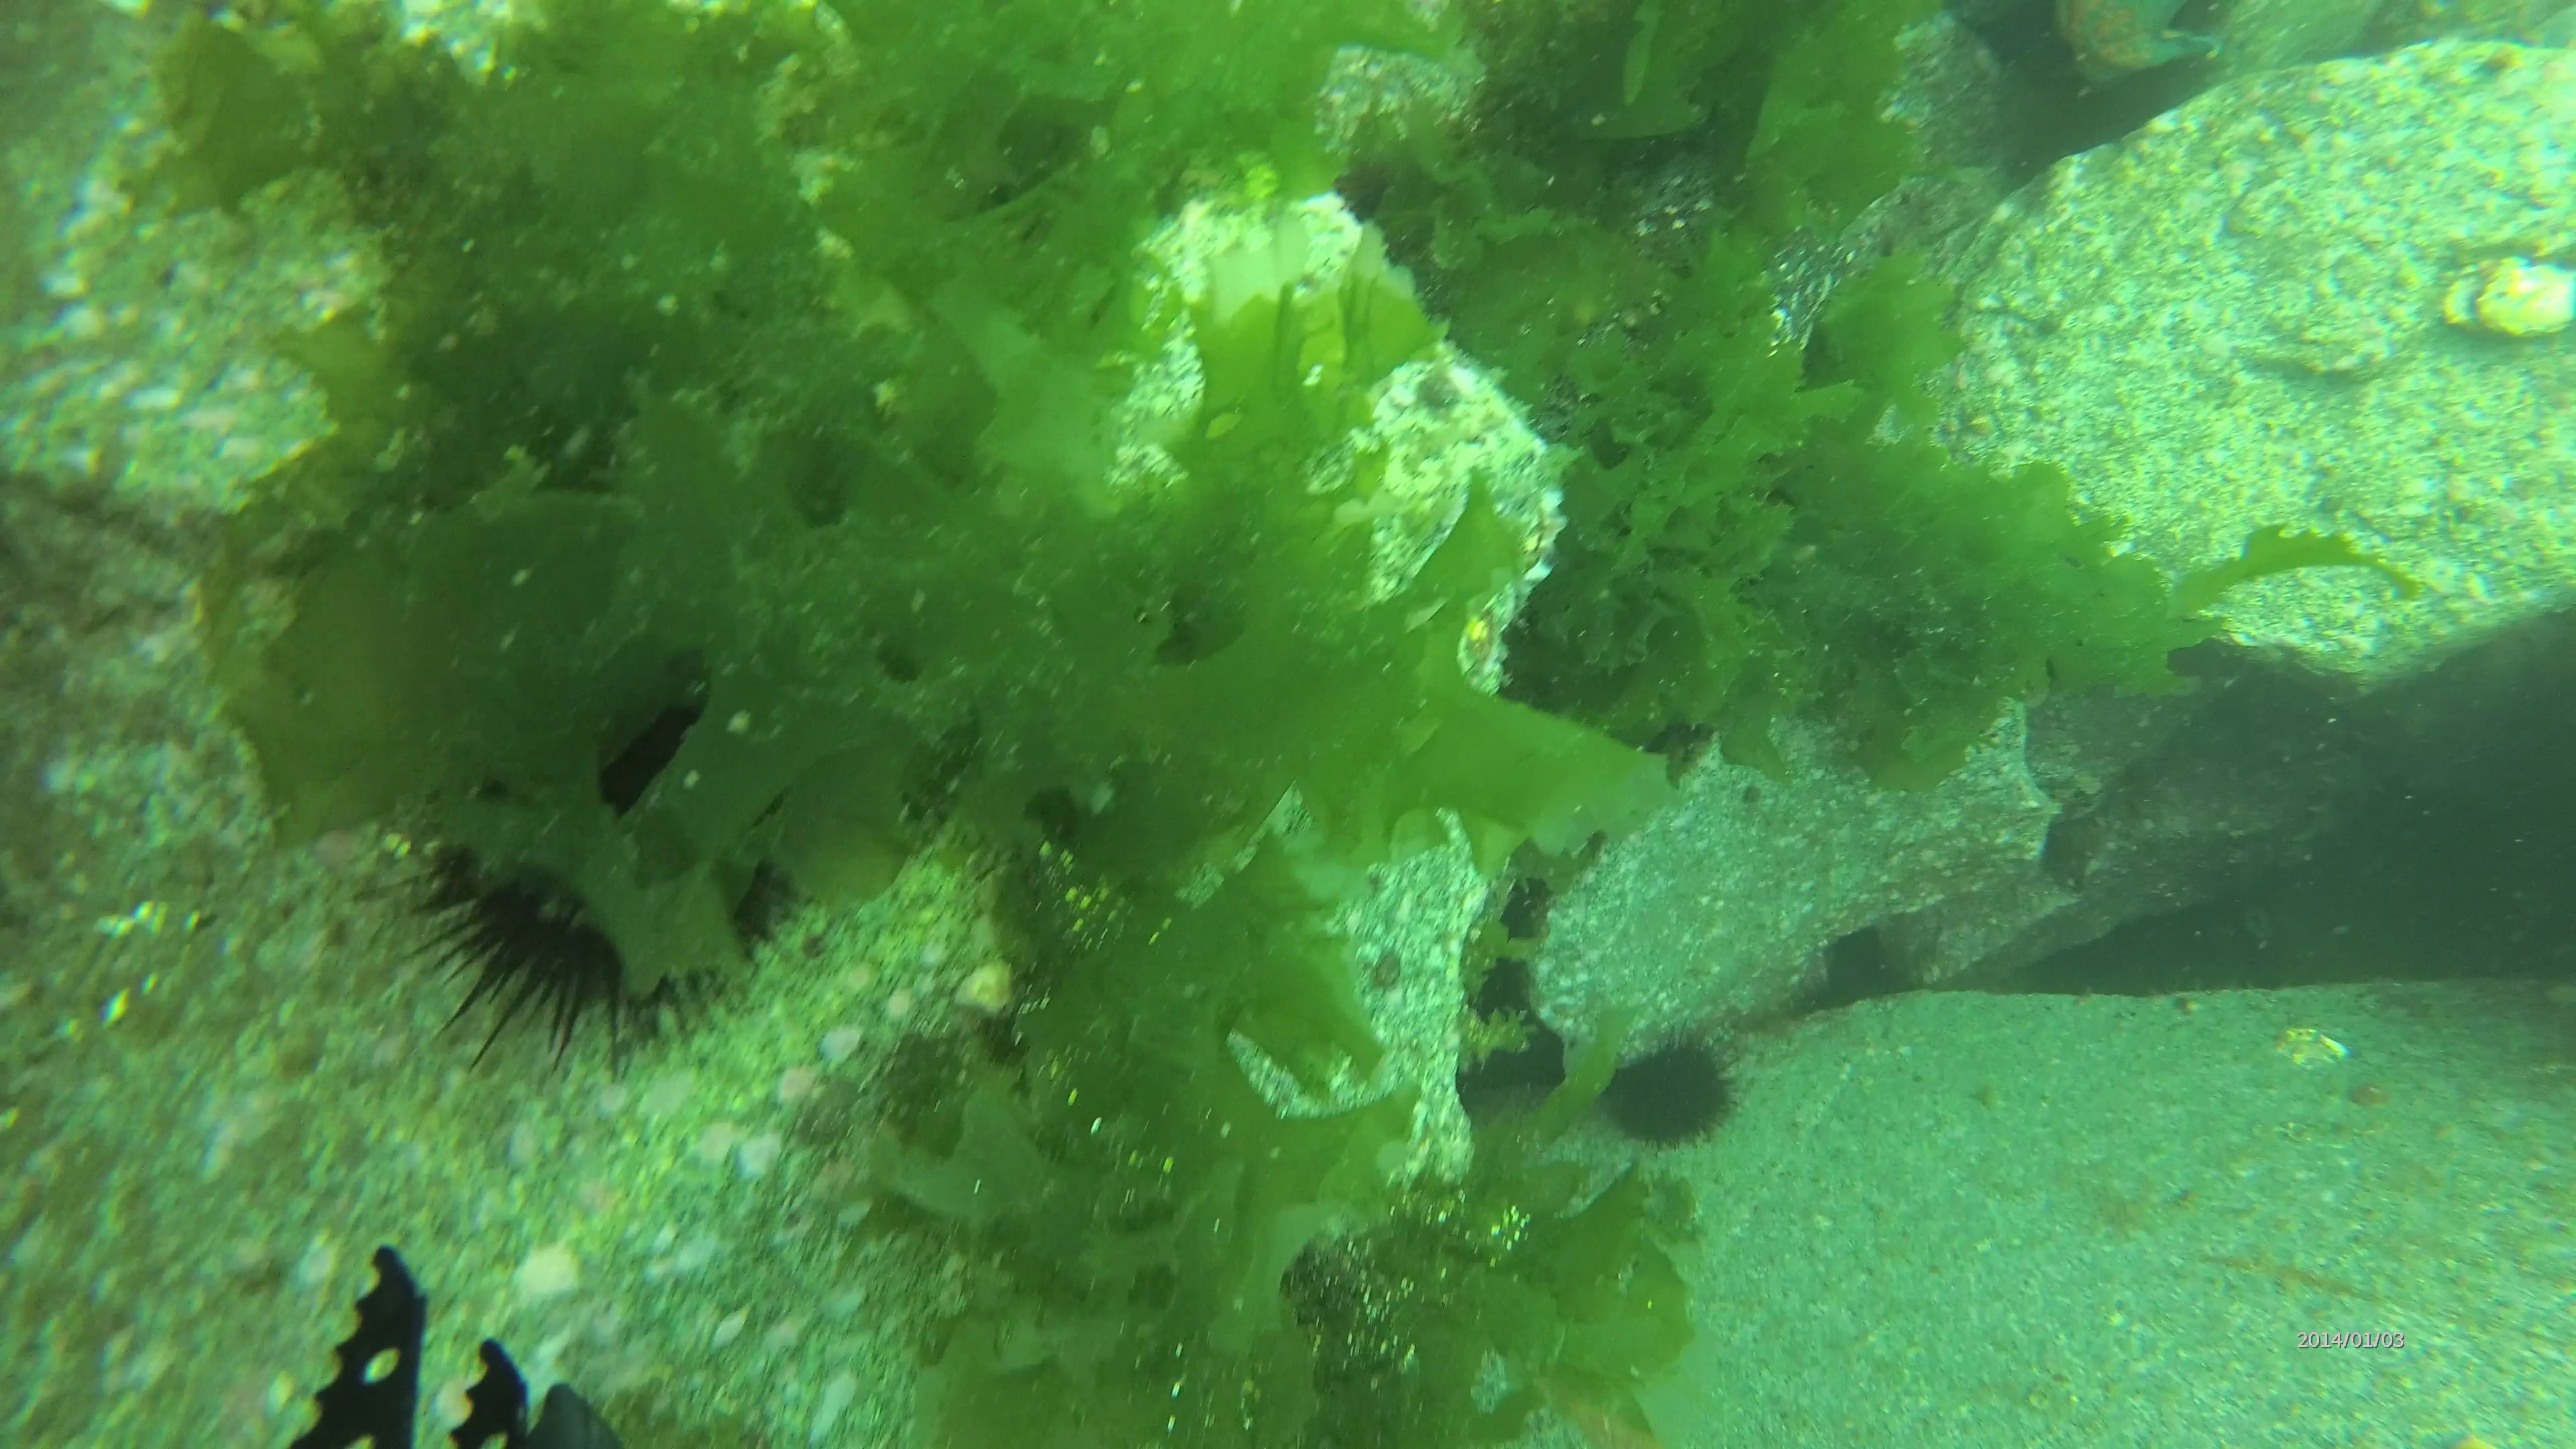echinus: (352, 642, 839, 1081), (1591, 1008, 1764, 1162)
starfish: (2026, 0, 2240, 103)
